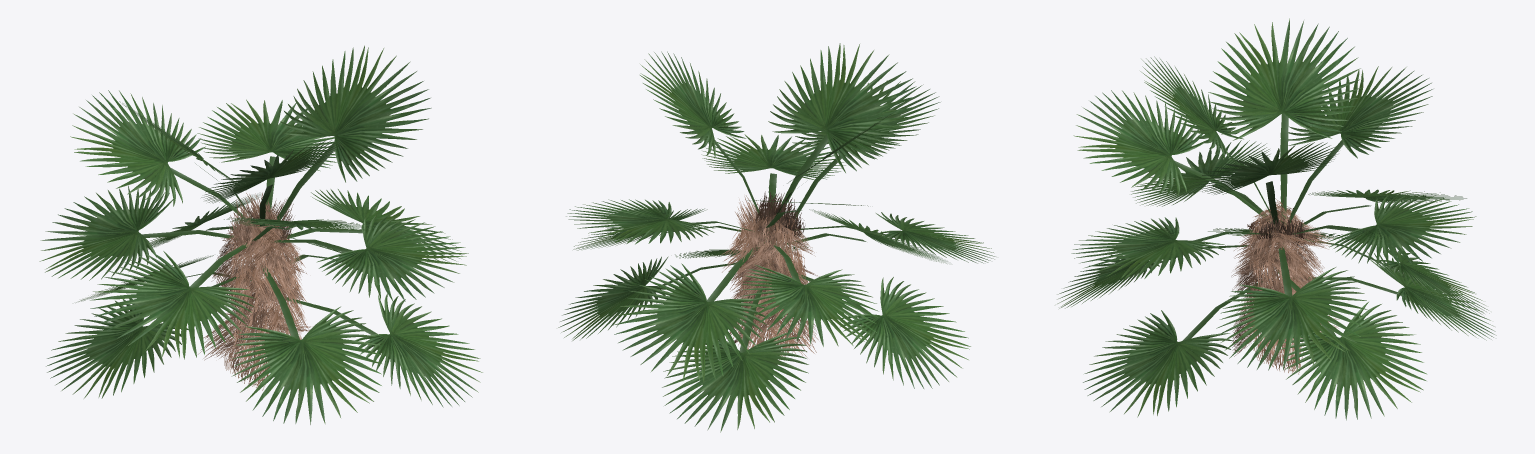
File: chi_2s_LOD1.fbx
3 views of the same model, side by side, from view 1: azimuth 30°, elevation 25°; view 2: azimuth 150°, elevation 25°; view 3: azimuth 270°, elevation 25° (orthographic). The views are drawn at different scales.
Visible parts, largest first — view 1: Mesh; view 2: Mesh; view 3: Mesh.
Boxes of the visible parts, box(x1,y1,x2,y2) form: Mesh: box(39, 45, 482, 424); Mesh: box(558, 43, 995, 432); Mesh: box(1057, 18, 1496, 420).
Size of what is drawn, in the model's own units: 1009 by 658 by 993.
